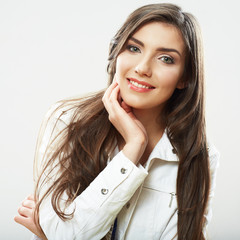teen: (106, 10, 200, 111)
